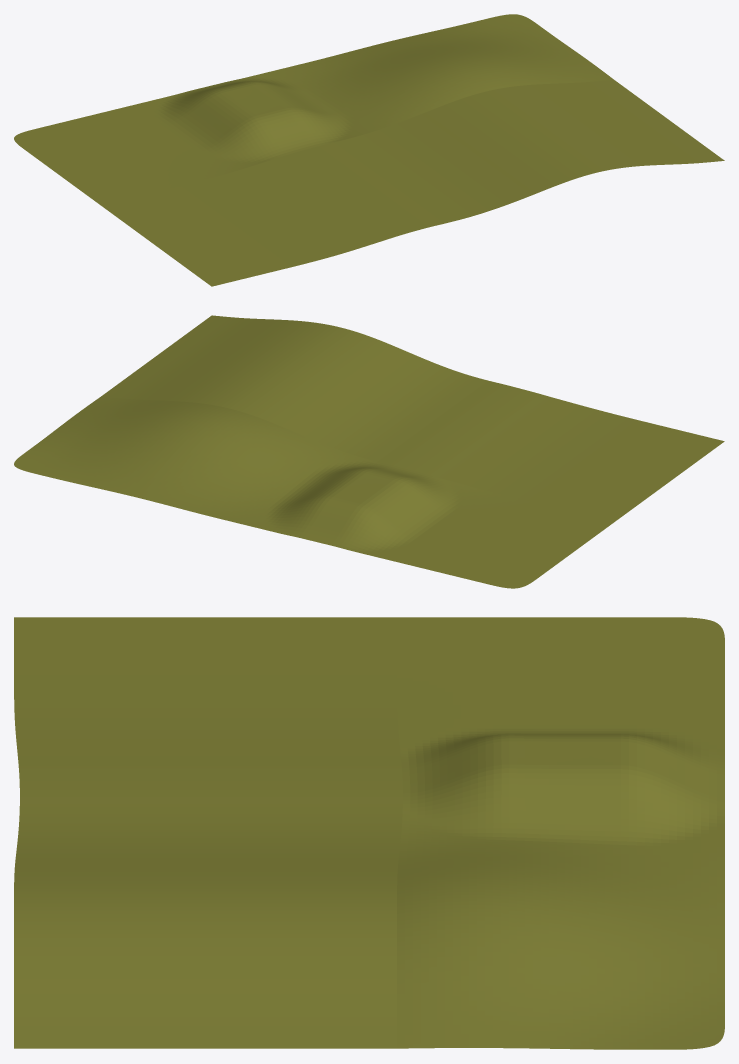
The model's file is SimpleEnvironment.gltf.
3 renders of one model, top to bottom at view 1: azimuth 30°, elevation 25°; view 2: azimuth 150°, elevation 25°; view 3: azimuth 270°, elevation 25°, orthographic. The views are drawn at different scales.
Parts seen in each view (by area): view 1: Plane; view 2: Plane; view 3: Plane.
Boxes of the visible parts, bbox=[...] form: Plane: bbox=[14, 14, 724, 286]; Plane: bbox=[14, 315, 724, 588]; Plane: bbox=[14, 617, 724, 1049].
Bounding box in the file's own units: 50 × 2.17 × 34.72.
